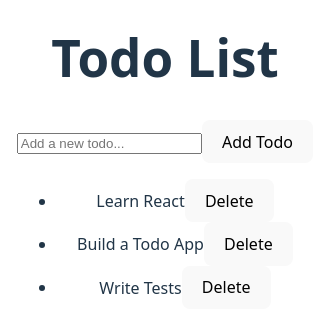
Test case: TodoList Component › adds a new todo
Type "Test new todo" into the field with placeholder "Add a new todo...".
click(109, 143); type("Test new todo")  # box [17, 133, 202, 154]
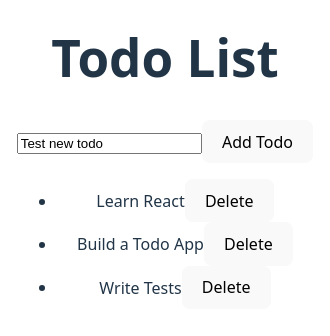
Note: Submit the form
Click the button "Add Todo".
click(258, 142)  # box [202, 120, 313, 163]
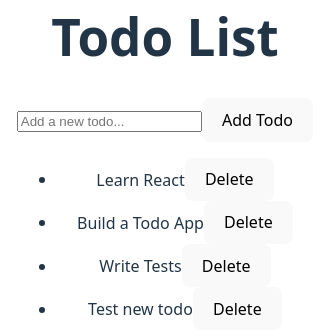
Now the text "Test new todo" is shown, box [88, 298, 193, 320]
Now the field with placeholder "Add a new todo..." is empty, box [17, 111, 202, 132]
